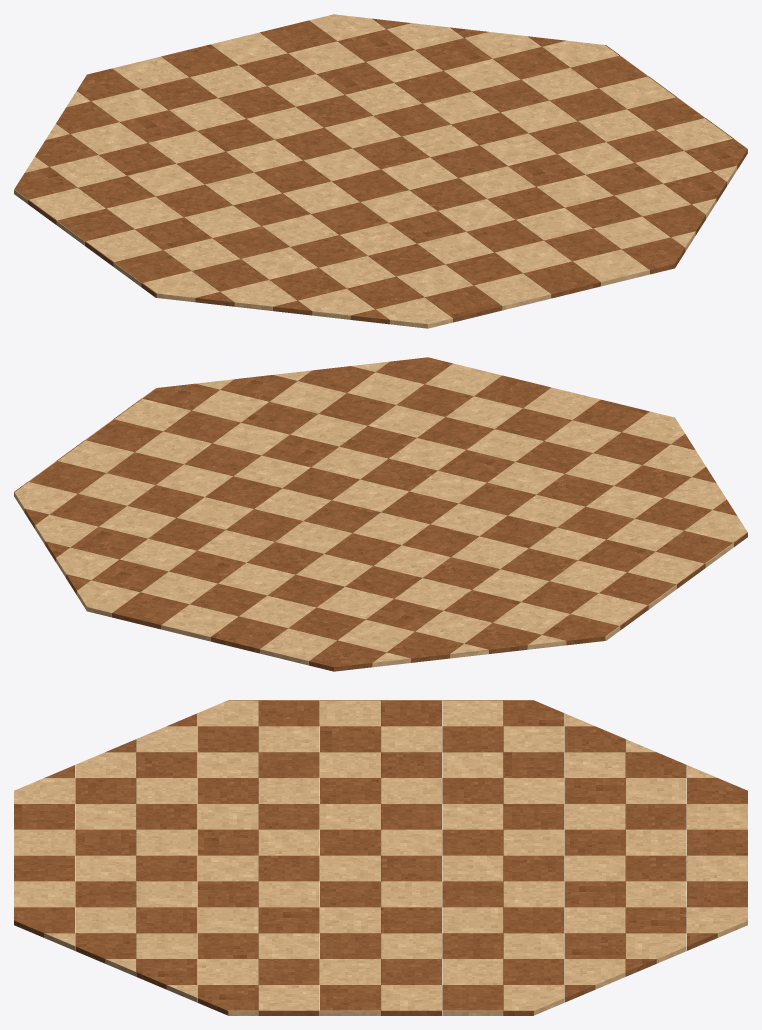
Rendered from CheckerTiles.glb.
The picture shows the model from 3 angles, top to bottom: view 1: azimuth 30°, elevation 25°; view 2: azimuth 150°, elevation 25°; view 3: azimuth 270°, elevation 25°; orthographic projection. The views are drawn at different scales.
Parts seen in each view (by area): view 1: CheckerTiles; view 2: CheckerTiles; view 3: CheckerTiles.
Boxes of the visible parts, x1,y1,x2,y2 form: CheckerTiles: (14, 14, 747, 328); CheckerTiles: (14, 357, 747, 671); CheckerTiles: (14, 700, 747, 1015).
Bounding box in the file's own units: 8 × 0.059 × 7.98.
Materials: 2 (2 with a texture image).
